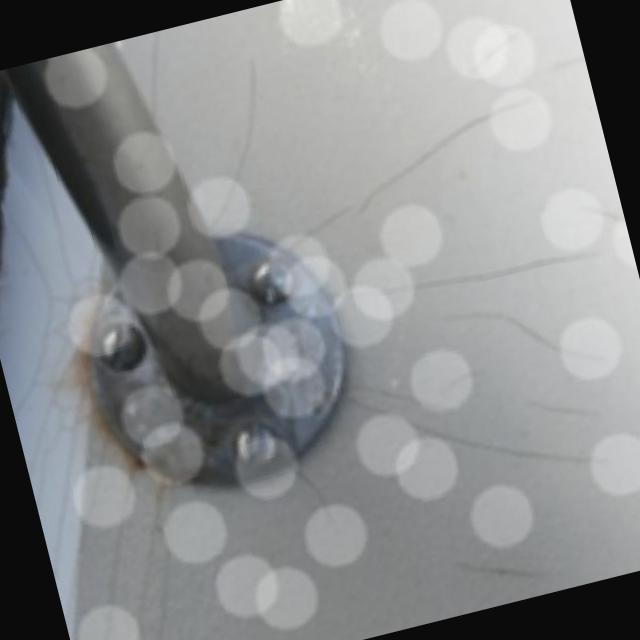crack: (282, 88, 546, 246), (416, 280, 622, 394), (387, 232, 579, 312), (454, 542, 556, 594)
